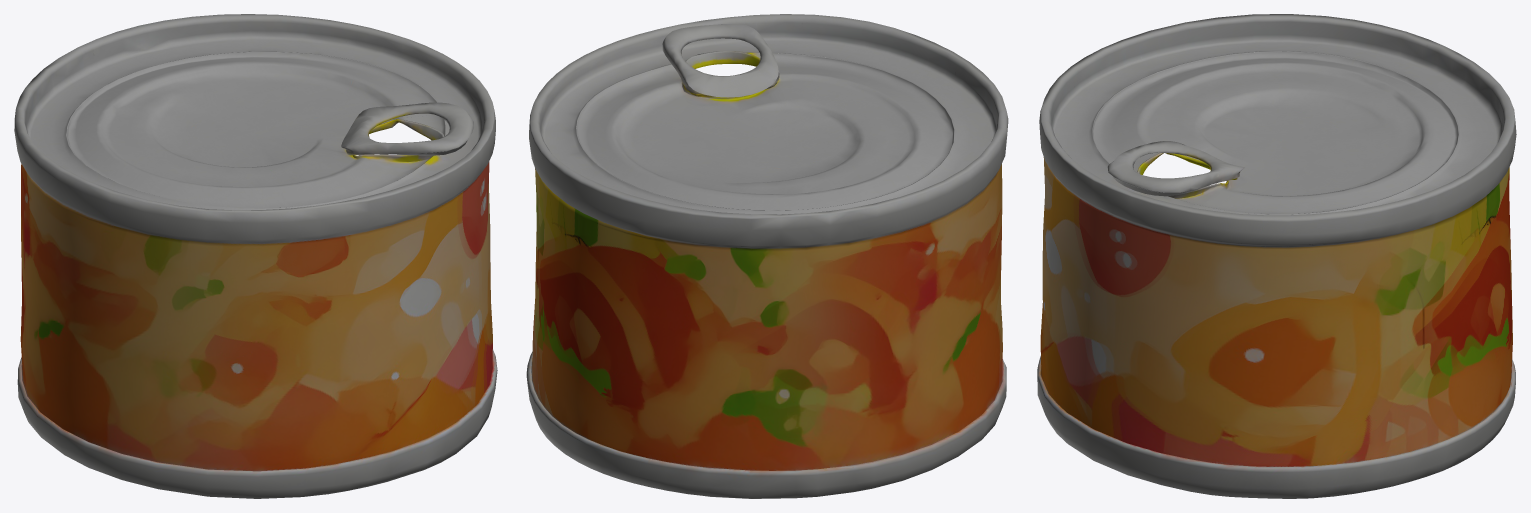
Rendered from rustcan.glb.
3 renders of one model, left to right at view 1: azimuth 30°, elevation 25°; view 2: azimuth 150°, elevation 25°; view 3: azimuth 270°, elevation 25°, orthographic.
Visible parts, largest first — view 1: tripo_node_5e566ec6-cd98-4f28-ab34-4e9855794ecc; view 2: tripo_node_5e566ec6-cd98-4f28-ab34-4e9855794ecc; view 3: tripo_node_5e566ec6-cd98-4f28-ab34-4e9855794ecc.
Boxes of the visible parts, x1,y1,x2,y2 form: tripo_node_5e566ec6-cd98-4f28-ab34-4e9855794ecc: (14,14,497,498); tripo_node_5e566ec6-cd98-4f28-ab34-4e9855794ecc: (526,14,1008,498); tripo_node_5e566ec6-cd98-4f28-ab34-4e9855794ecc: (1037,14,1516,498).
Size of the model in its own units: 0.9995 by 0.6724 by 0.9966.
Materials: 1 (1 with a texture image).
